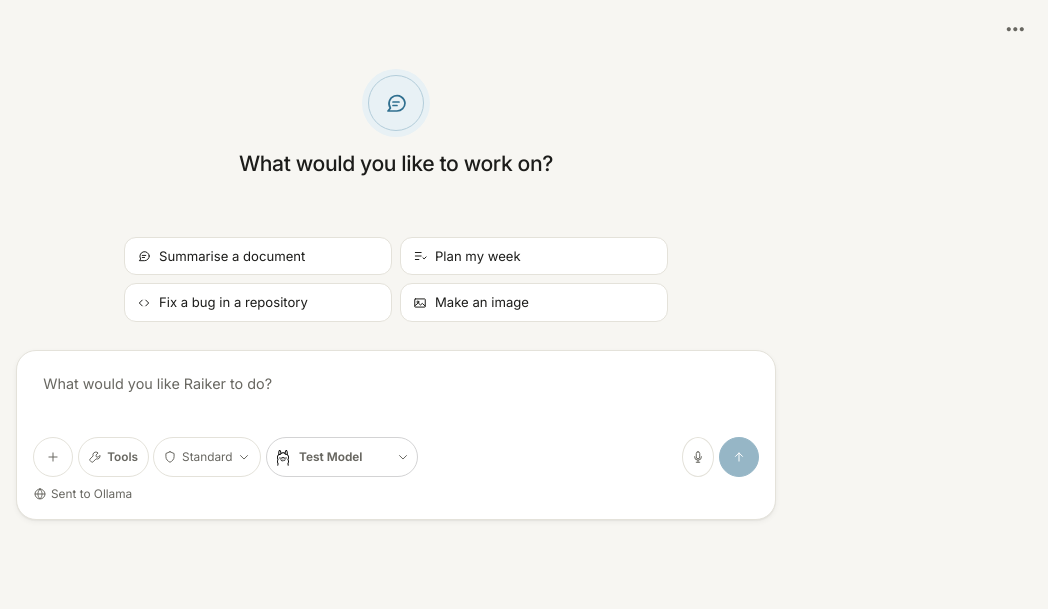
it: ChatView composer — commands, mentions and message actions › says why an @ mention cannot be completed rather than showing an empty menu
This screenshot has width=1048, height=609.
In the text box named "Prompt": (396, 396) left=33, top=367, right=759, bottom=425, type "@main"
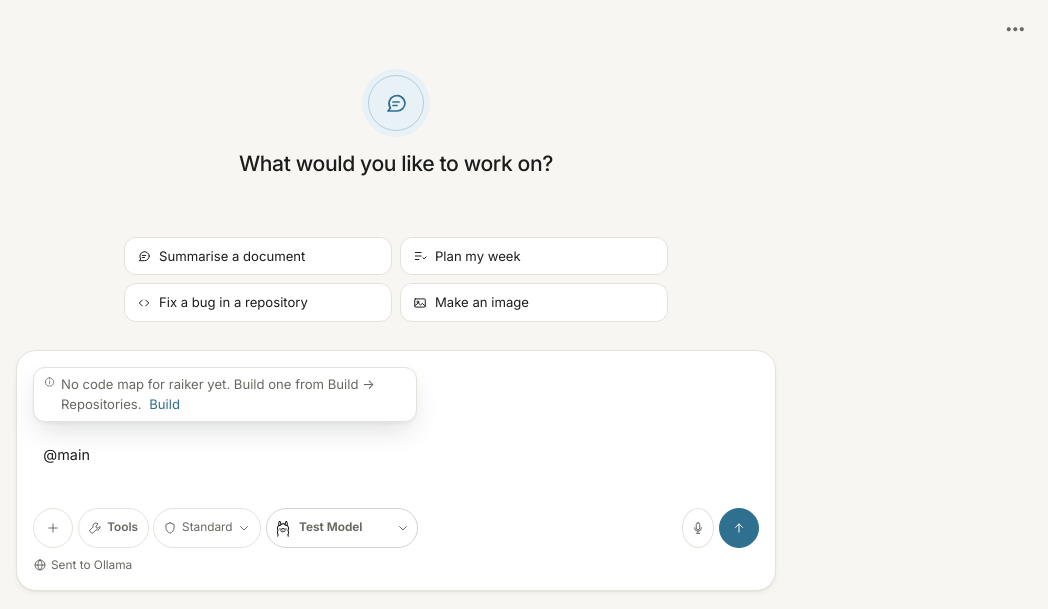
Expected: the text "No code map for raiker yet" is shown, left=61, top=376, right=375, bottom=412
